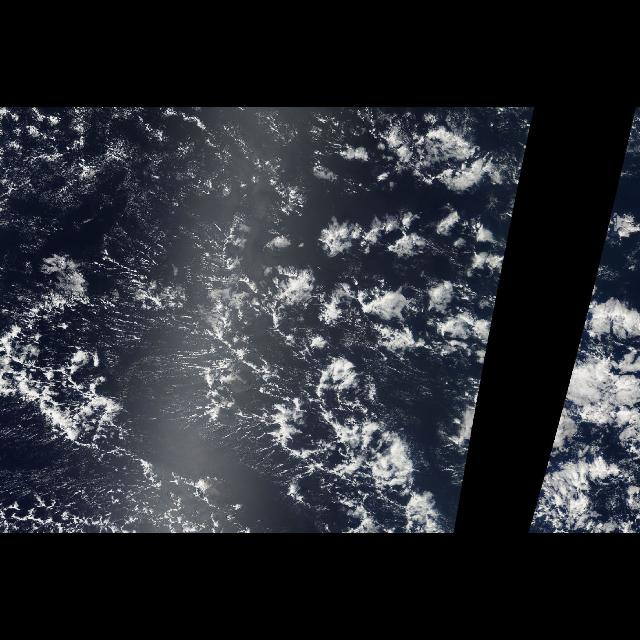Fish: (171, 209, 449, 513)
Flower: (138, 132, 530, 532), (526, 132, 640, 532)
Sugar: (8, 155, 212, 263), (104, 309, 214, 477)
